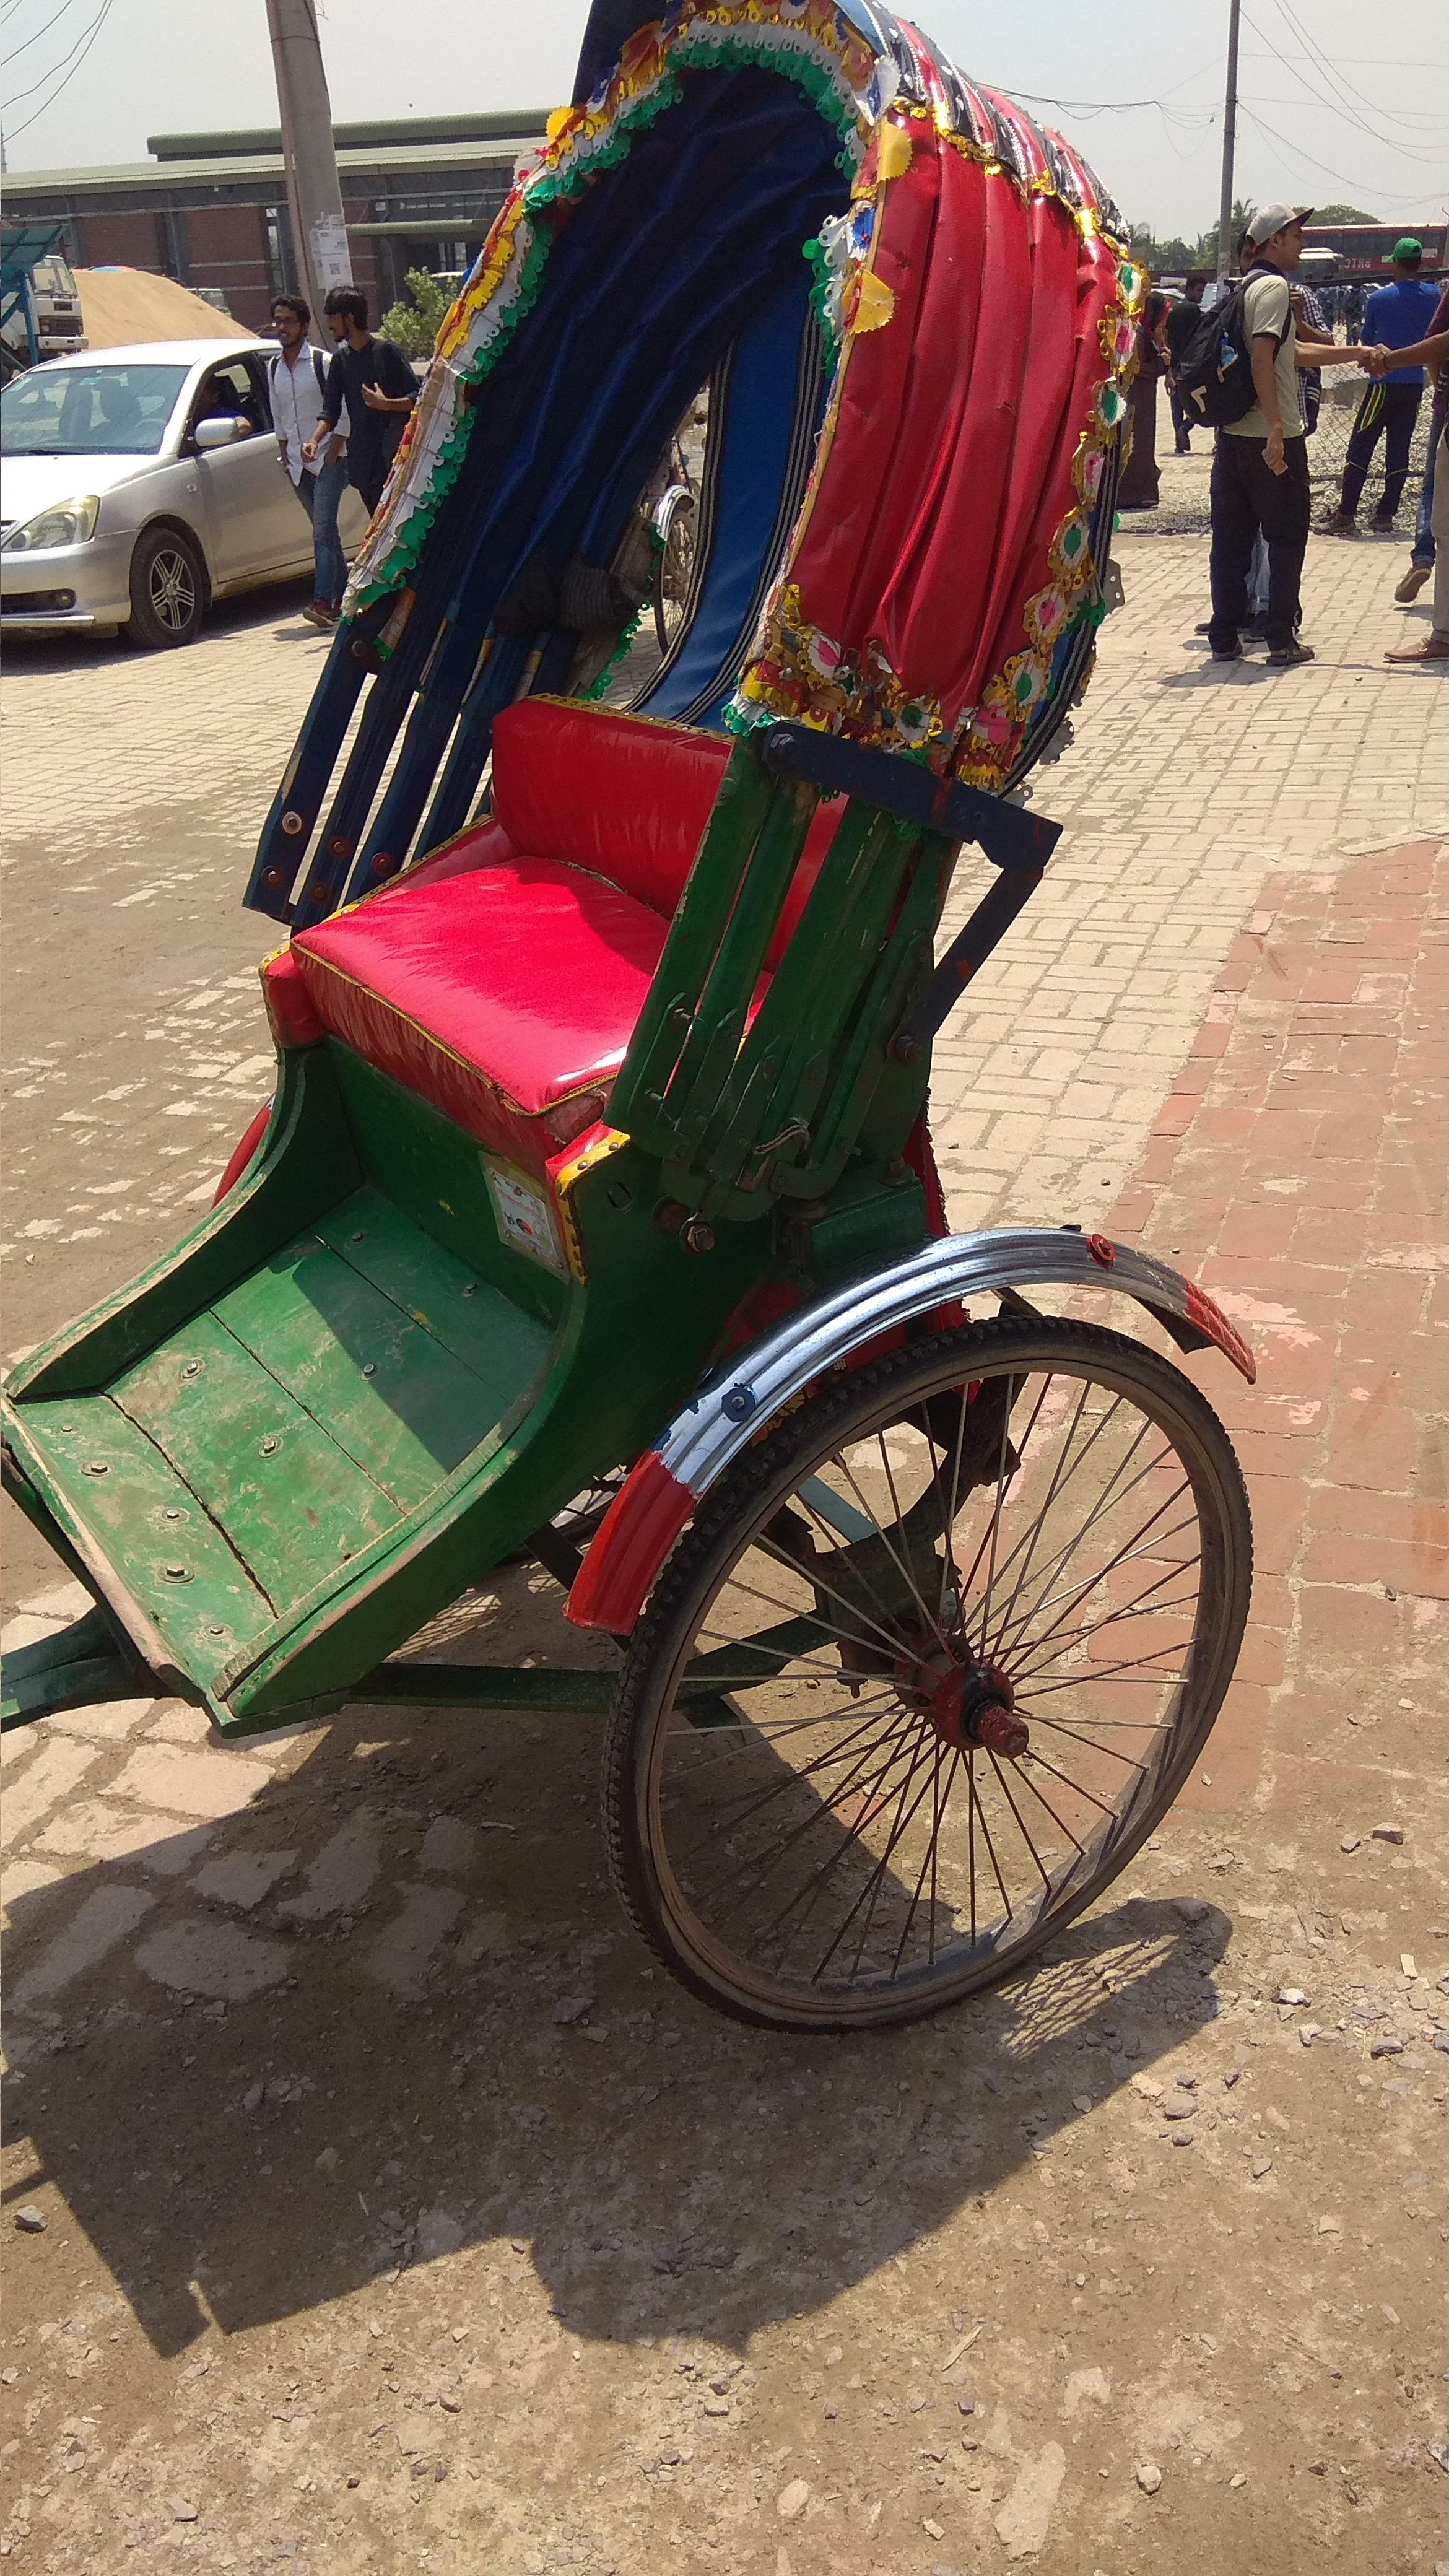Rickshaw: (19, 14, 1246, 2098)
